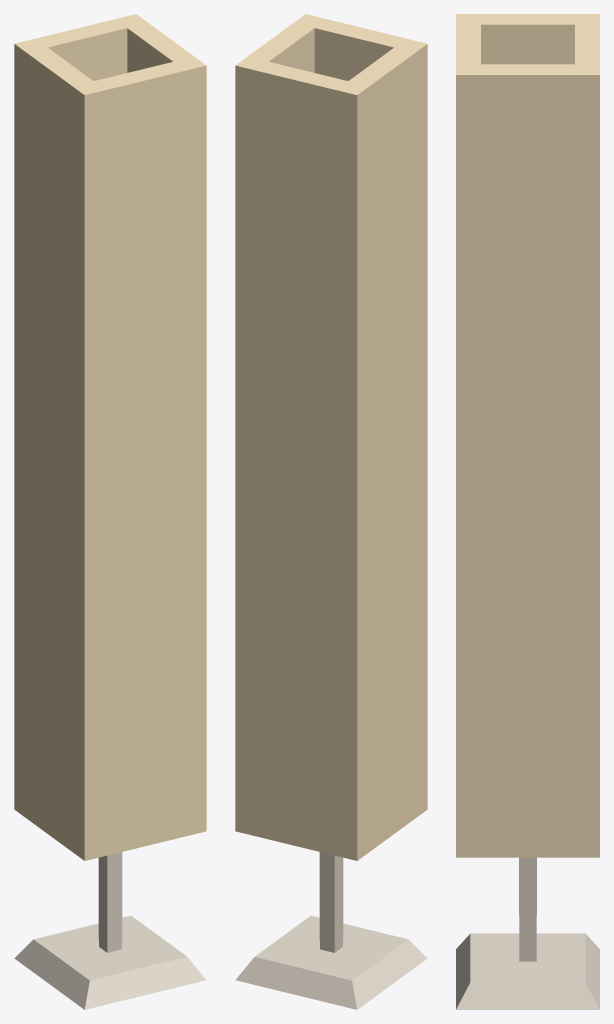
The model's file is kitLampSquareFloor.glb.
3 views of the same model, side by side, from view 1: azimuth 30°, elevation 25°; view 2: azimuth 150°, elevation 25°; view 3: azimuth 270°, elevation 25° (orthographic). The views are drawn at different scales.
Visible parts, largest first — view 1: kitLampSquareFloor_glow, kitLampSquareFloor_metal; view 2: kitLampSquareFloor_glow, kitLampSquareFloor_metal; view 3: kitLampSquareFloor_glow, kitLampSquareFloor_metal.
Part boxes in pixels (x1,y1,x2,y2): kitLampSquareFloor_glow: (14,14,206,860); kitLampSquareFloor_metal: (14,852,206,1009); kitLampSquareFloor_glow: (235,14,427,860); kitLampSquareFloor_metal: (235,852,427,1009); kitLampSquareFloor_glow: (456,14,599,857); kitLampSquareFloor_metal: (456,857,599,1009).
Bounding box in the file's own units: 0.24 × 1.72 × 0.24.
